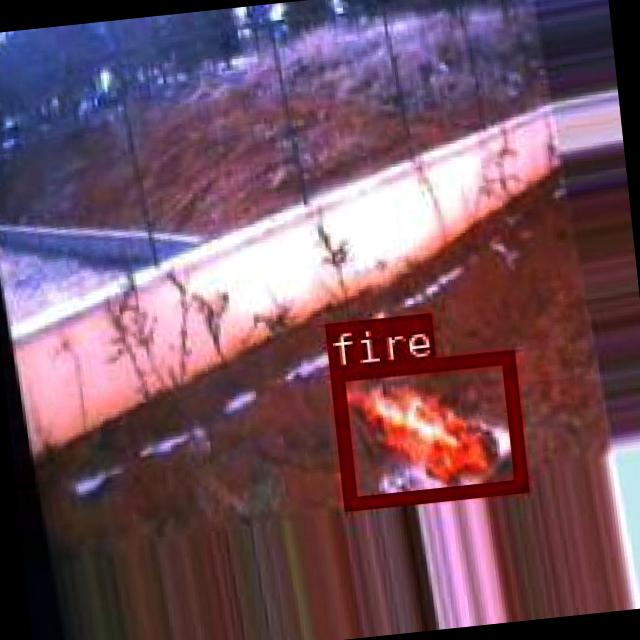fire: (328, 348, 525, 507)
